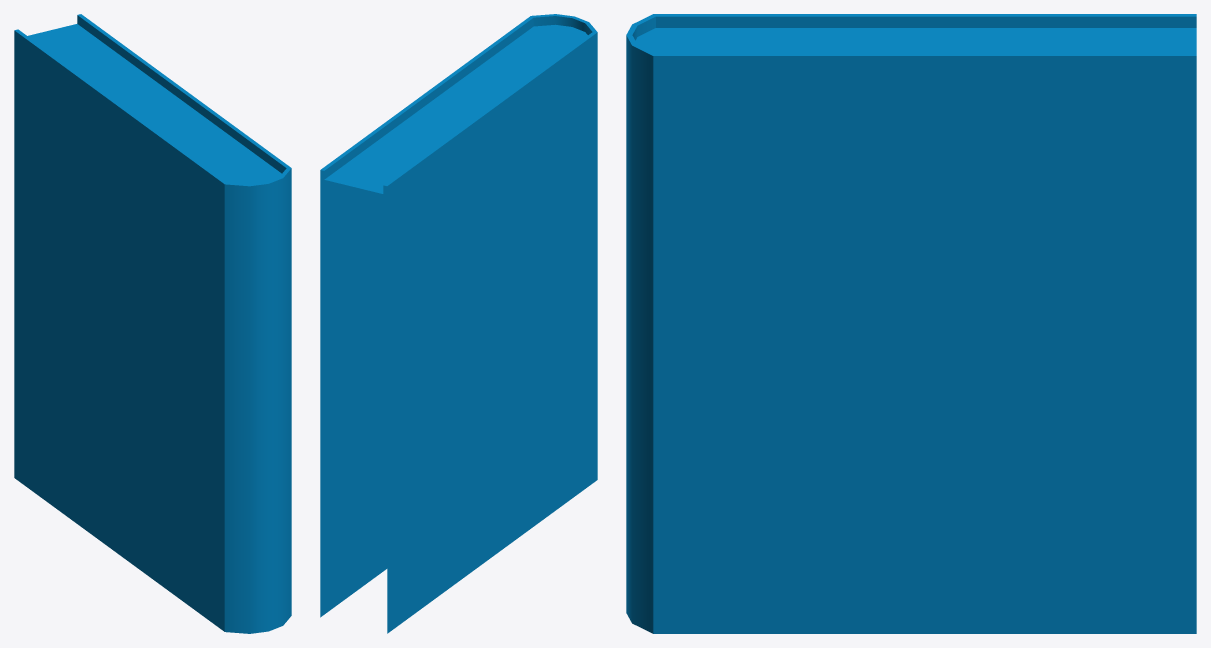
File: HalloweenRoomA_BooksL.fbx
The picture shows the model from 3 angles, left to right: view 1: azimuth 30°, elevation 25°; view 2: azimuth 150°, elevation 25°; view 3: azimuth 270°, elevation 25°; orthographic projection. The views are drawn at different scales.
Parts seen in each view (by area): view 1: HalloweenRoomA_BooksL; view 2: HalloweenRoomA_BooksL; view 3: HalloweenRoomA_BooksL.
Boxes of the visible parts, x1,y1,x2,y2 form: HalloweenRoomA_BooksL: [14, 14, 291, 633]; HalloweenRoomA_BooksL: [320, 14, 597, 633]; HalloweenRoomA_BooksL: [626, 14, 1196, 633].
Bounding box in the file's own units: 4.78 × 30.57 × 27.34.
